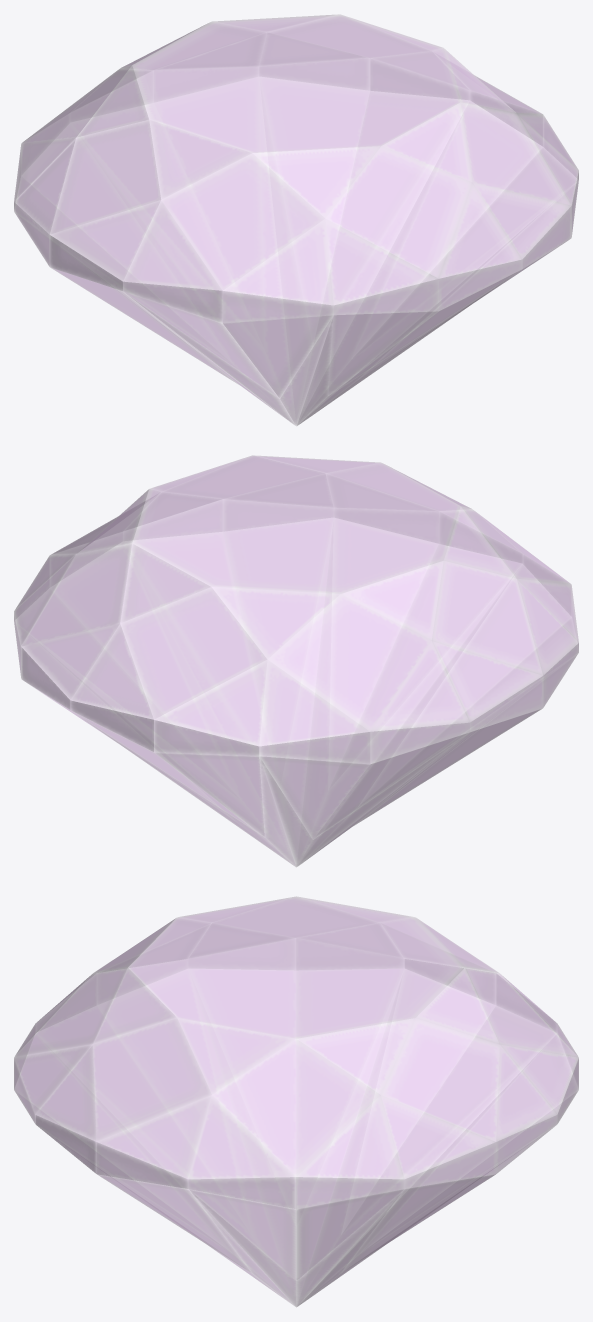
The picture shows the model from 3 angles, top to bottom: view 1: azimuth 30°, elevation 25°; view 2: azimuth 150°, elevation 25°; view 3: azimuth 270°, elevation 25°; orthographic projection.
Visible parts, largest first — view 1: diamond; view 2: diamond; view 3: diamond.
Boxes of the visible parts, x1,y1,x2,y2 form: diamond: (14,14,578,426); diamond: (14,455,578,867); diamond: (14,896,578,1307).
Size of the model in its own units: 2 by 1.33 by 2.
1 material, 1 textured.
